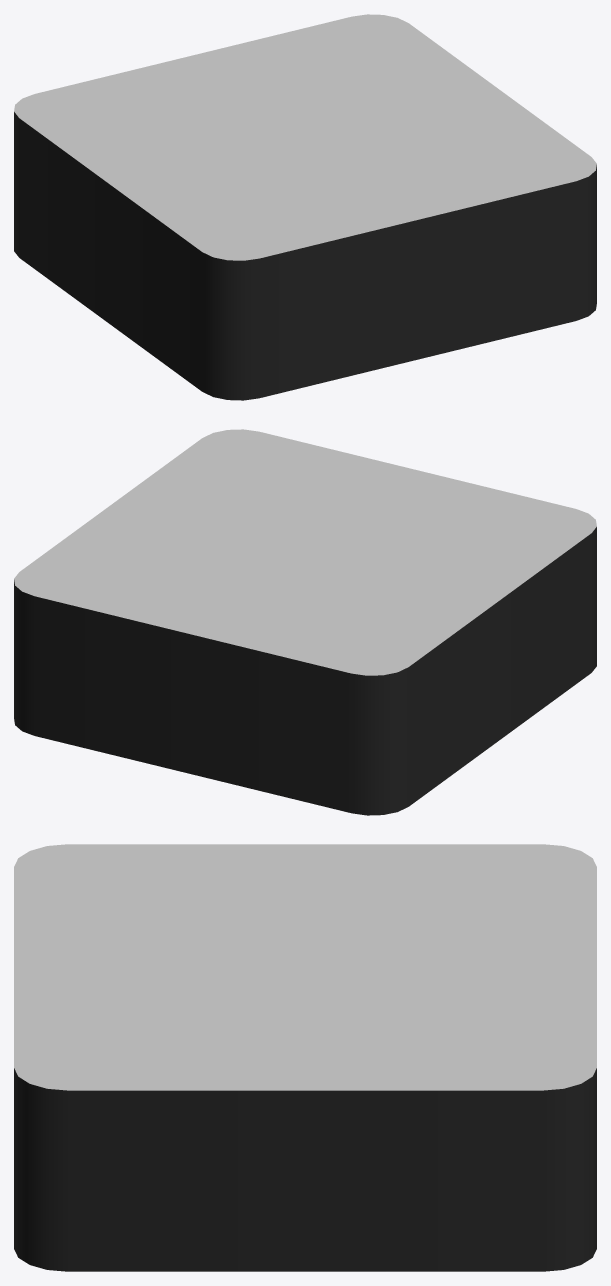
File: Music_Icon.FBX
3 renders of one model, top to bottom at view 1: azimuth 30°, elevation 25°; view 2: azimuth 150°, elevation 25°; view 3: azimuth 270°, elevation 25°, orthographic. The views are drawn at different scales.
Visible parts, largest first — view 1: Music Icon; view 2: Music Icon; view 3: Music Icon.
Part boxes in pixels (<box>): Music Icon: <box>14,14,596,400</box>; Music Icon: <box>14,429,596,815</box>; Music Icon: <box>14,844,596,1271</box>.
Bounding box in the file's own units: 0.114 × 0.0391 × 0.114.
